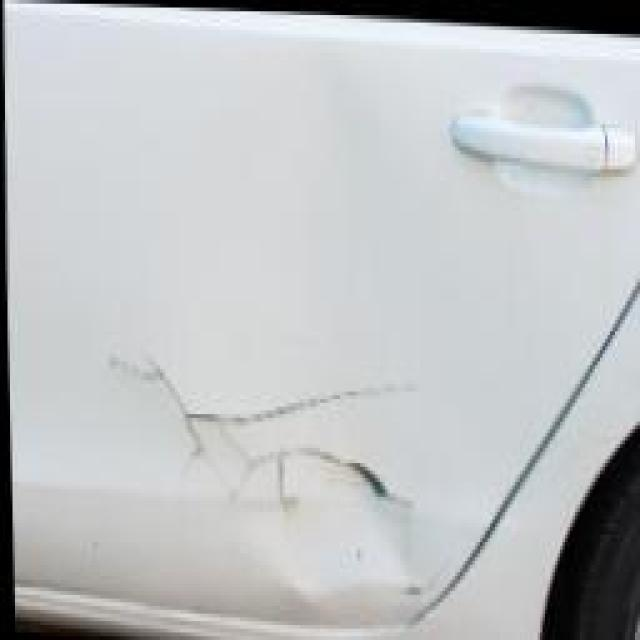Door: (85, 286, 468, 640)
